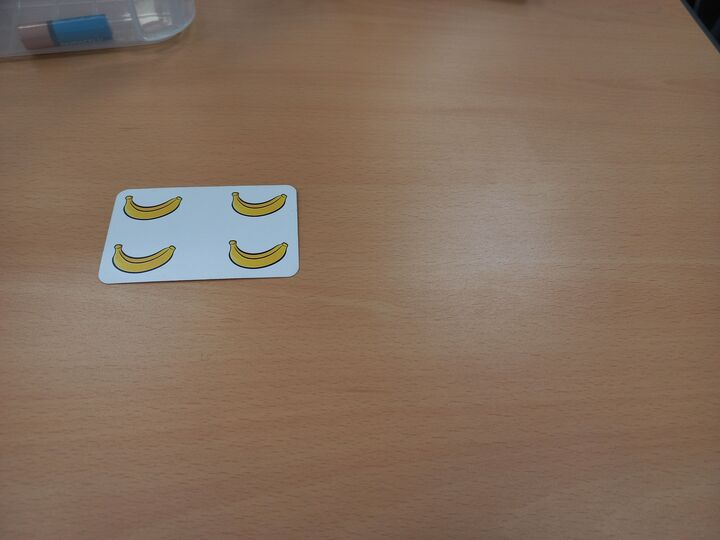banana4: (98, 183, 302, 284)
